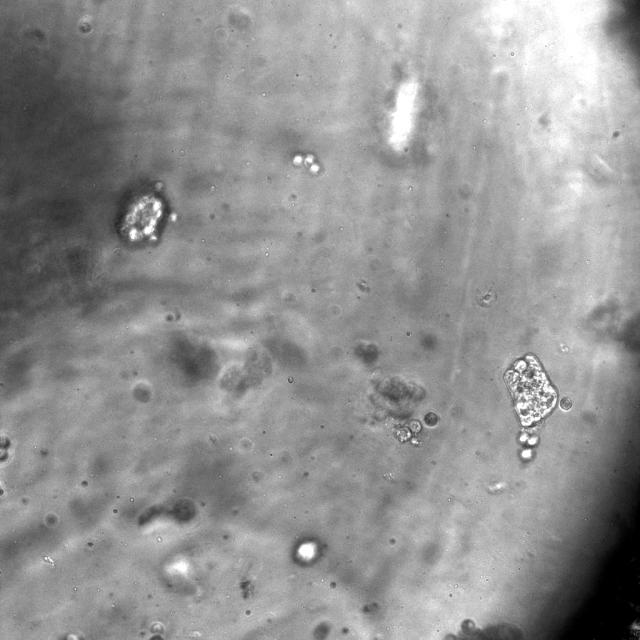organoid: (504, 353, 559, 460), (368, 376, 425, 446), (114, 181, 170, 245), (442, 619, 523, 639), (138, 498, 197, 525), (292, 153, 319, 174), (0, 433, 11, 463), (424, 411, 440, 428), (558, 395, 573, 411)
